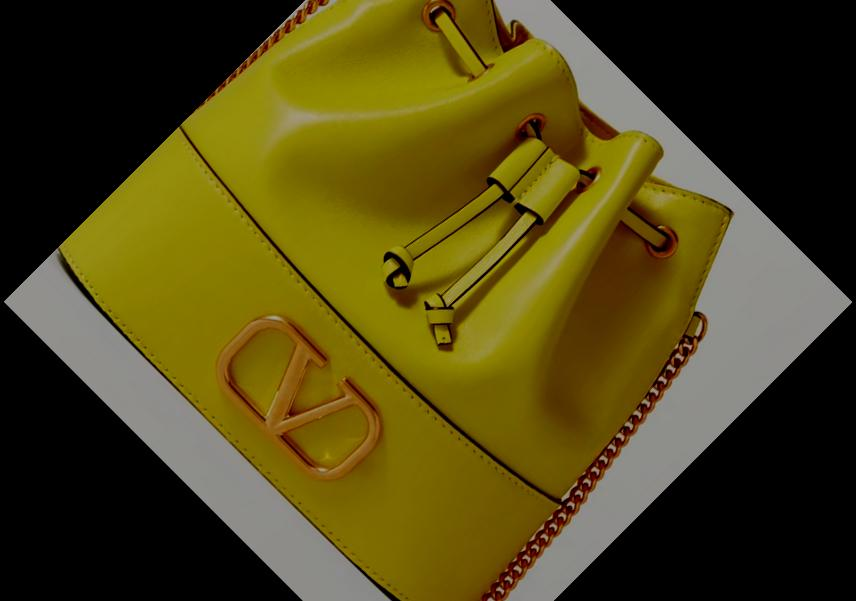VALENTINO: (200, 299, 397, 496)
